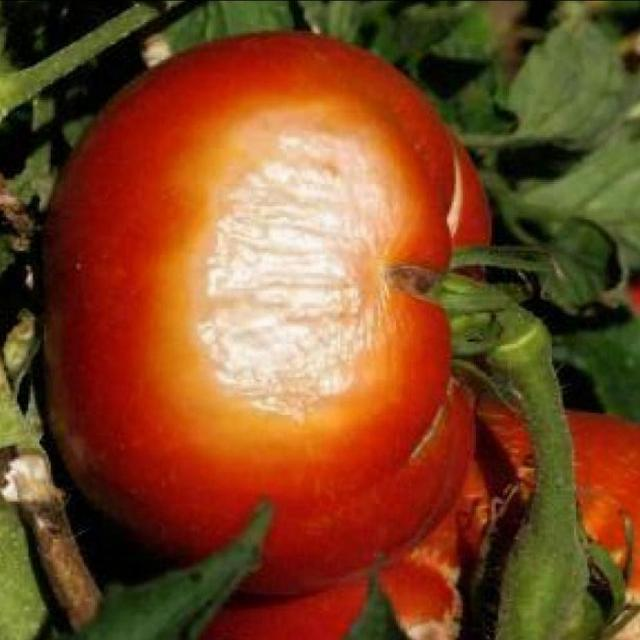Sunscald Fruit: (118, 62, 279, 302)
